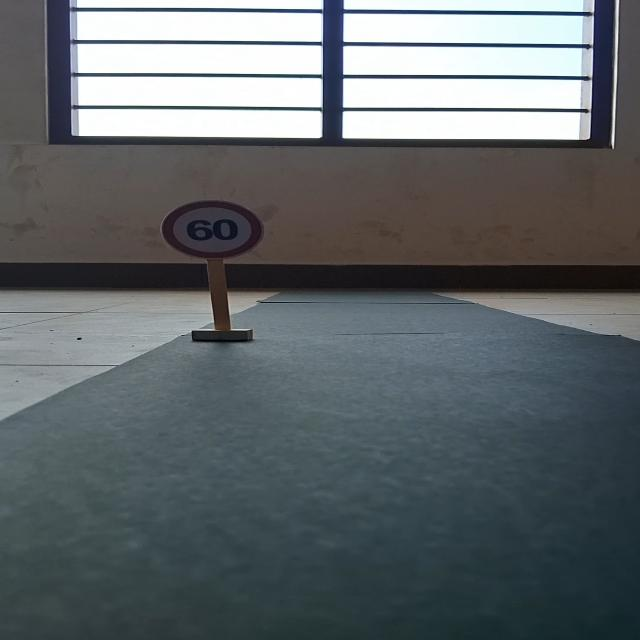Speed60: (154, 195, 266, 262)
